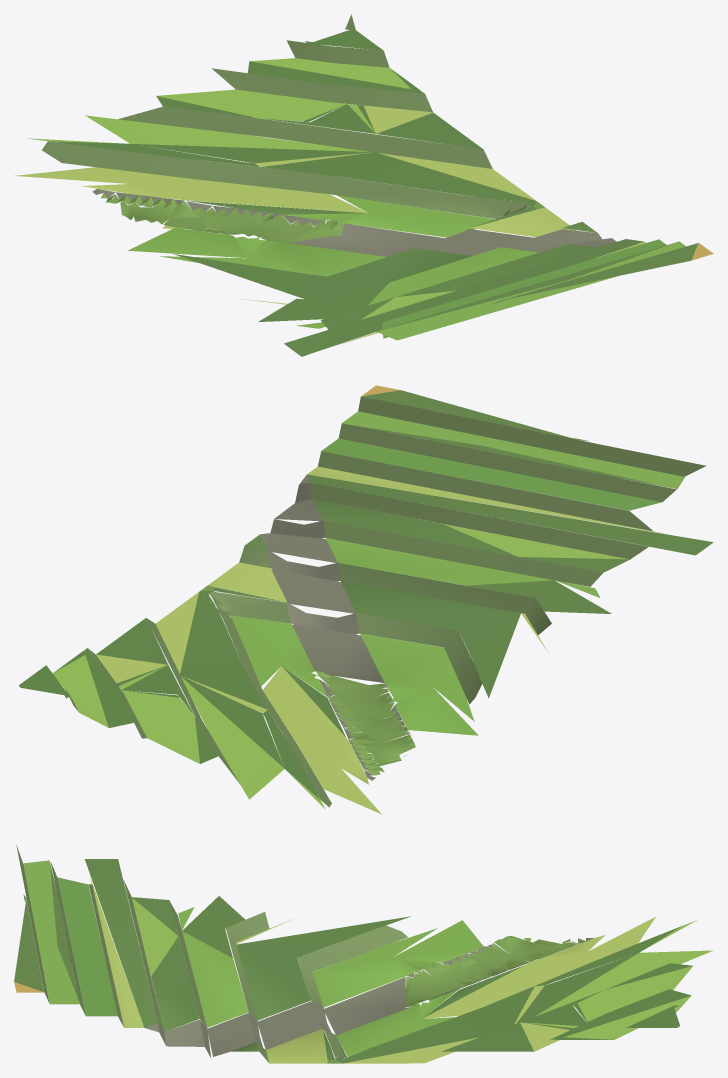
Rendered from payo_land_xm5_y8_lod1.glb.
3 views of the same model, one above another, from view 1: azimuth 30°, elevation 25°; view 2: azimuth 150°, elevation 25°; view 3: azimuth 270°, elevation 25° (orthographic). The views are drawn at different scales.
Visible parts, largest first — view 1: payo_land_xm5_y8; view 2: payo_land_xm5_y8; view 3: payo_land_xm5_y8.
Part boxes in pixels (x1,y1,x2,y2): payo_land_xm5_y8: (15, 14, 713, 356); payo_land_xm5_y8: (19, 385, 713, 814); payo_land_xm5_y8: (14, 844, 713, 1063).
Size of the model in its own units: 153 by 38.04 by 268.
